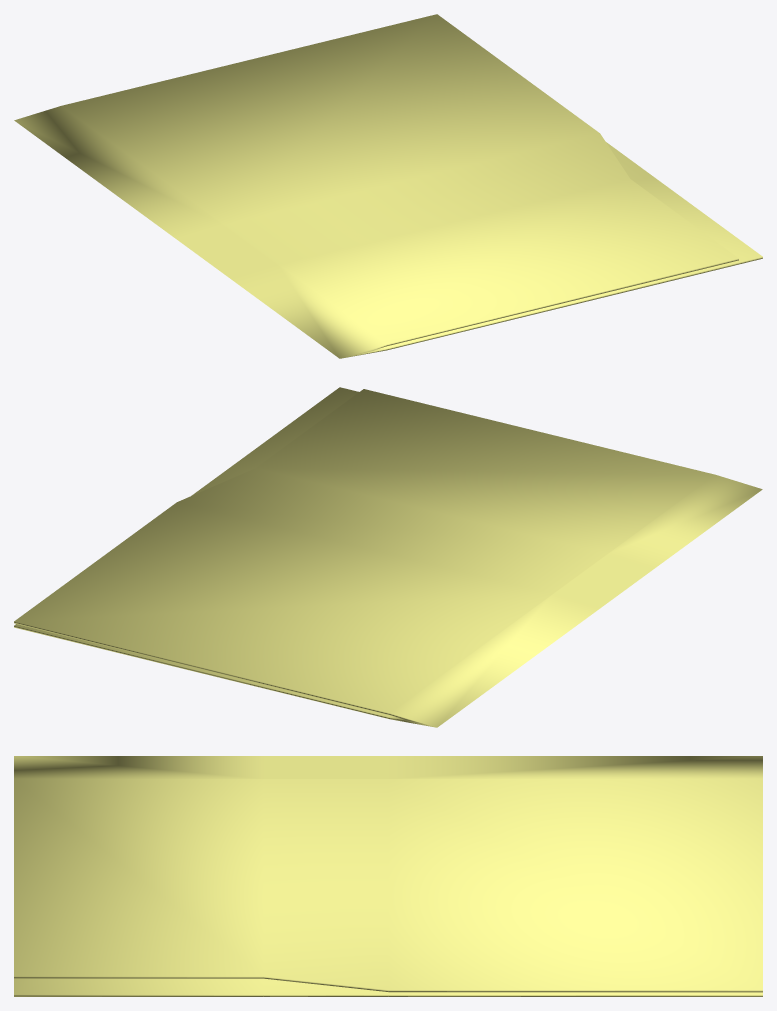
File: GamesE_E03_Folder.fbx
The picture shows the model from 3 angles, top to bottom: view 1: azimuth 30°, elevation 25°; view 2: azimuth 150°, elevation 25°; view 3: azimuth 270°, elevation 25°; orthographic projection. The views are drawn at different scales.
Parts seen in each view (by area): view 1: Folder; view 2: Folder; view 3: Folder.
Boxes of the visible parts, left/top/right/bottom form: Folder: left=14, top=14, right=762, bottom=358; Folder: left=14, top=387, right=762, bottom=727; Folder: left=14, top=756, right=762, bottom=996.
Size of the model in its own units: 22.86 by 0.3142 by 30.48.
